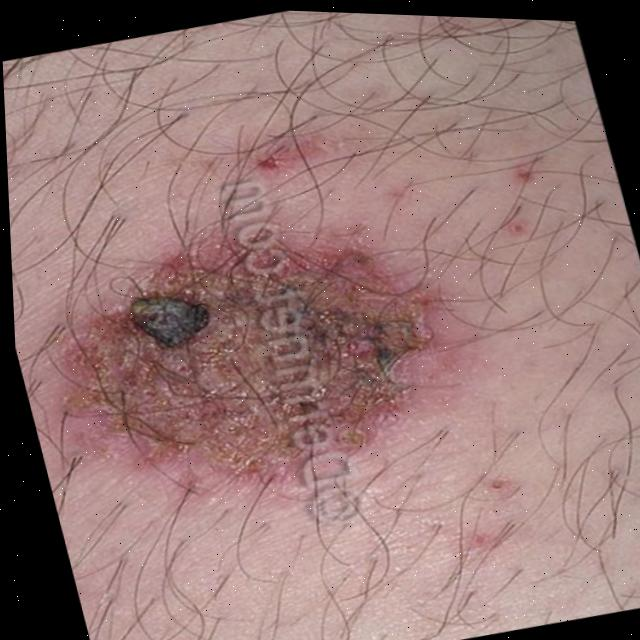Eczema: (46, 205, 428, 494)
